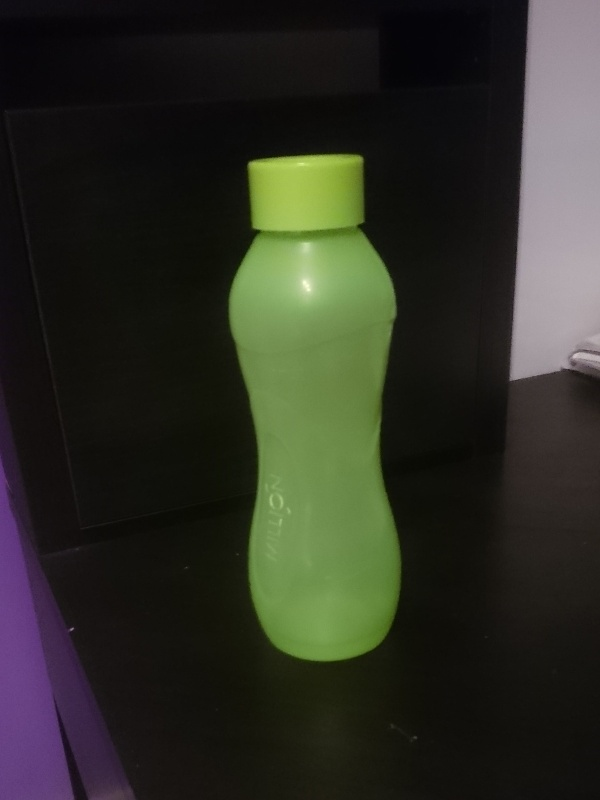my bottle: (226, 150, 399, 664)
